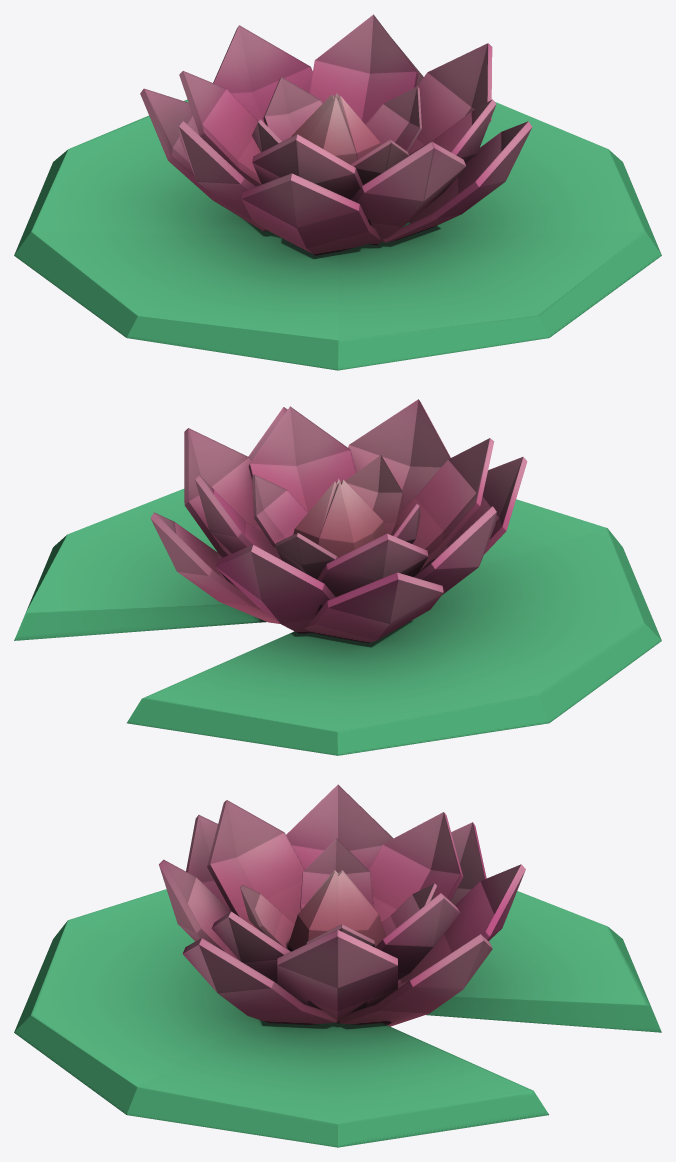
Rendered from flower2.gltf.
3 views of the same model, one above another, from view 1: azimuth 30°, elevation 25°; view 2: azimuth 150°, elevation 25°; view 3: azimuth 270°, elevation 25° (orthographic).
Parts seen in each view (by area): view 1: Lilypad_mesh; view 2: Lilypad_mesh; view 3: Lilypad_mesh.
Part boxes in pixels (bbox=[...]): Lilypad_mesh: bbox=[14, 14, 661, 370]; Lilypad_mesh: bbox=[14, 399, 661, 755]; Lilypad_mesh: bbox=[14, 784, 661, 1147].
Size of the model in its own units: 10.71 by 2.99 by 10.88.
1 material, 1 textured.
